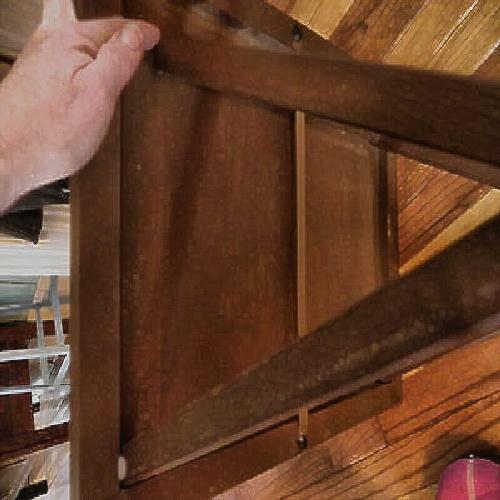table: (71, 11, 454, 477)
